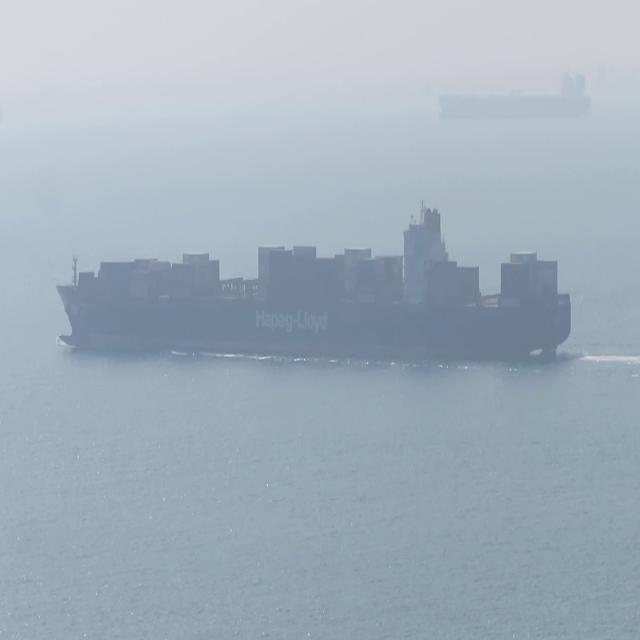cargoship: (58, 200, 570, 365), (440, 58, 590, 118)
